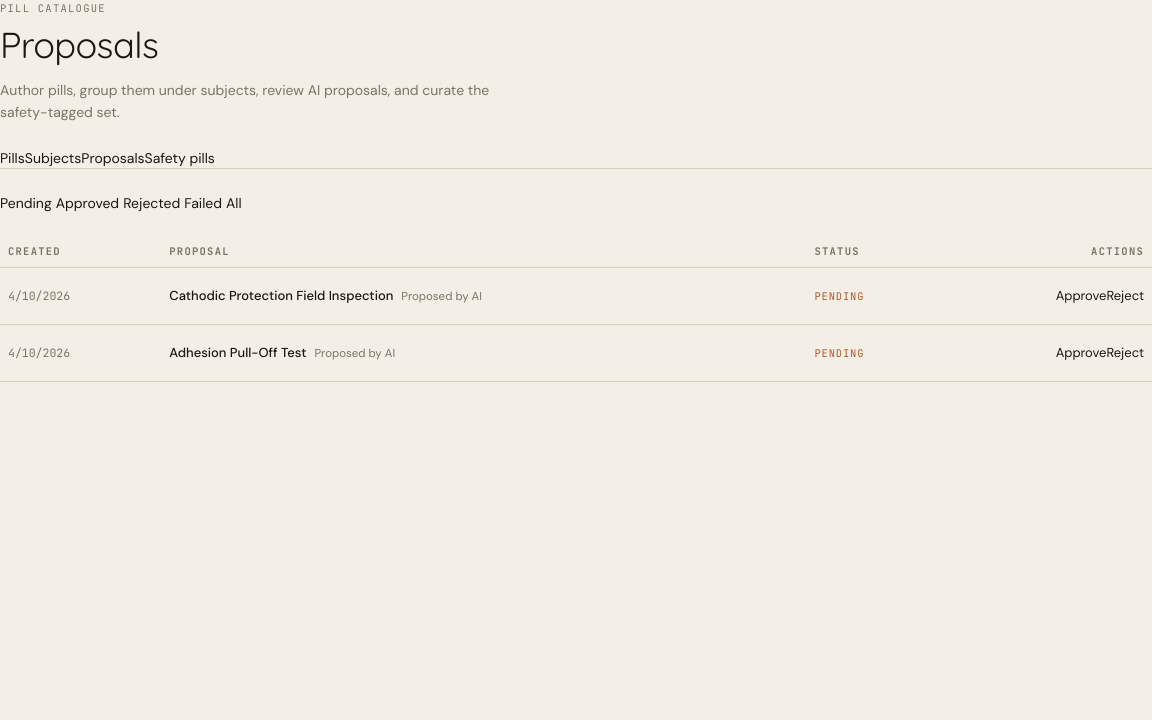
Scenario: proposals tab — drawer › approving from the drawer closes it and creates a pill
expect the text "Cathodic Protection Field Inspection" is shown: met, box top-left (169, 287), bottom-right (393, 304)
Click the row that starts with "Cathodic Protection Field Inspection" at point(576, 296), box top-left (0, 268), bottom-right (1151, 325)
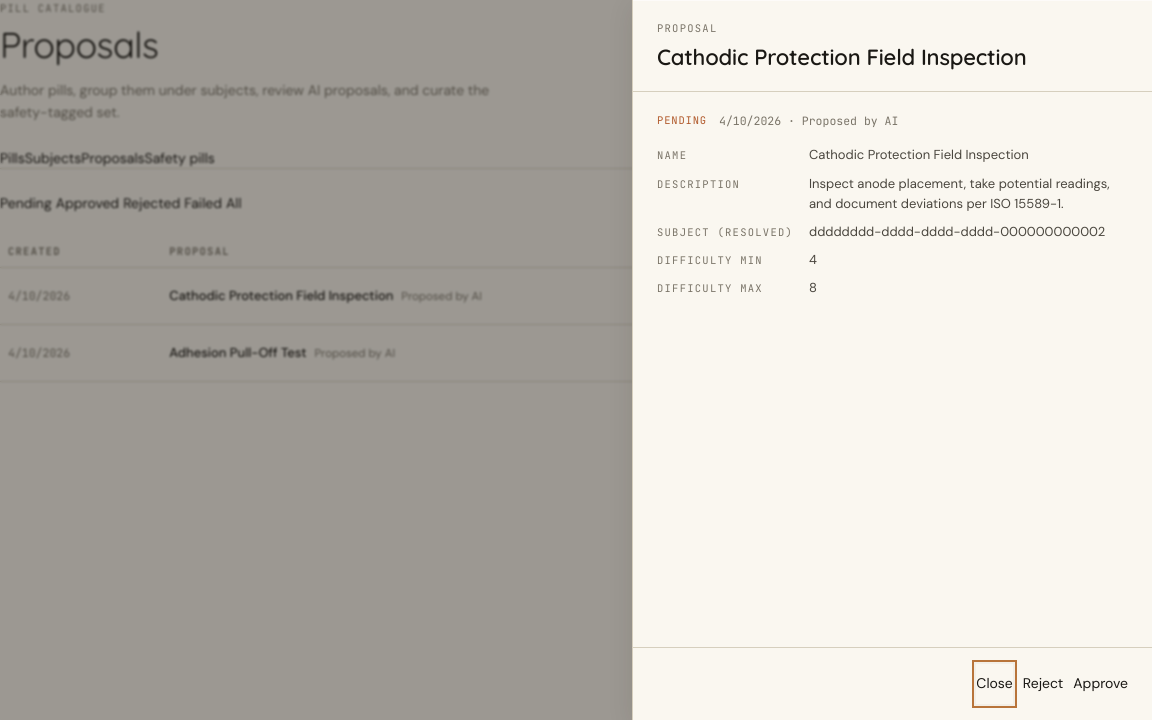
expect the button with test id "proposal-drawer-approve" is shown: met
Click the button with test id "proposal-drawer-approve" at point(1101, 684), box top-left (1073, 664), bottom-right (1128, 704)
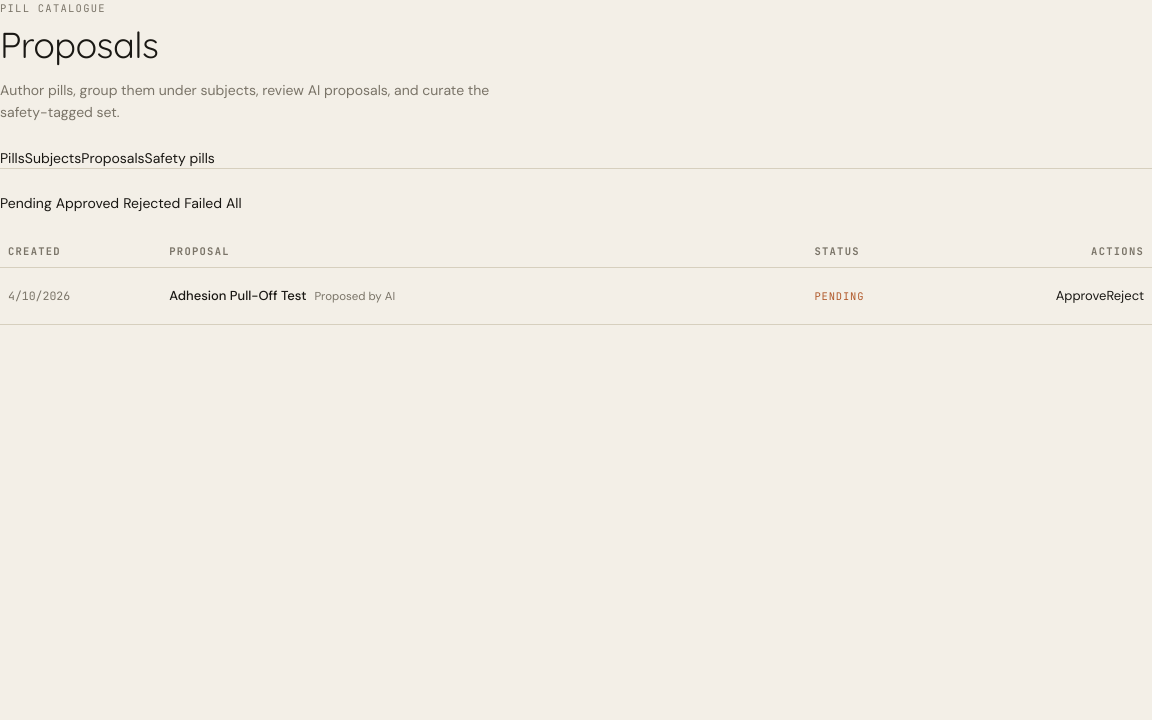
expect the element with test id "proposal-drawer-rows" is gone: met
